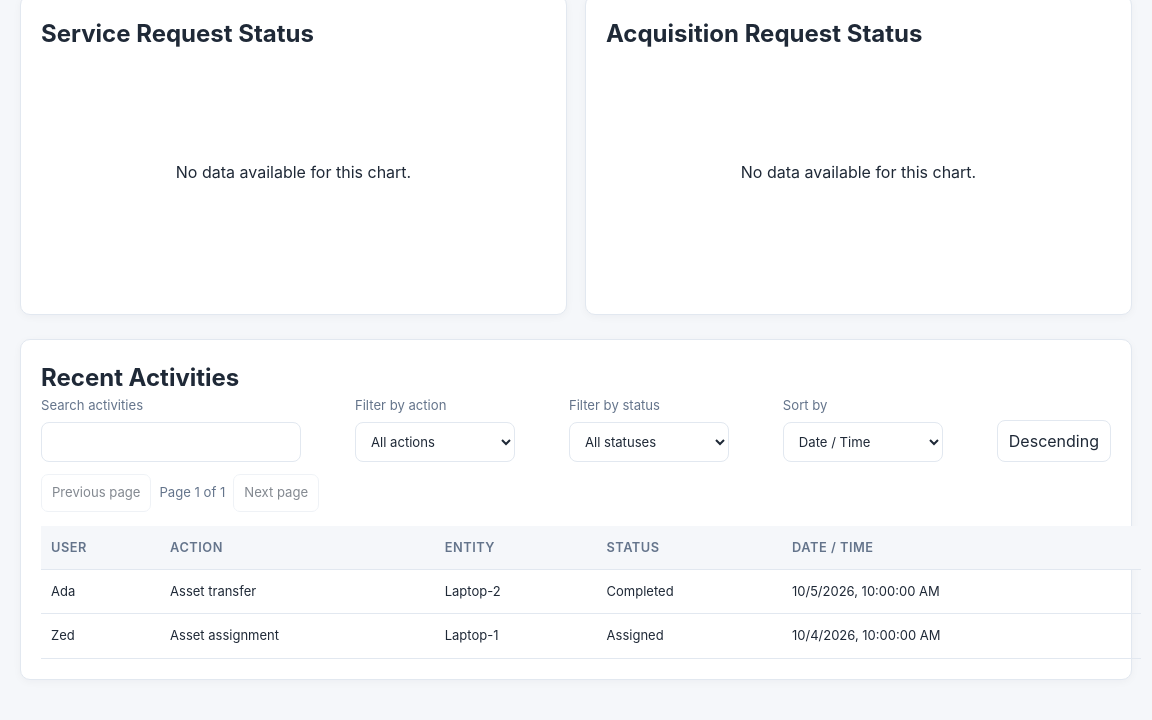
Test case: filters recent activities and sorts the filtered results
(page scrolled)
Expected: the text "Ada" is shown, 41,569 -> 160,614
Select "User" in the dropdown labelled "Sort by" at (863, 442), box 783,422 -> 943,462
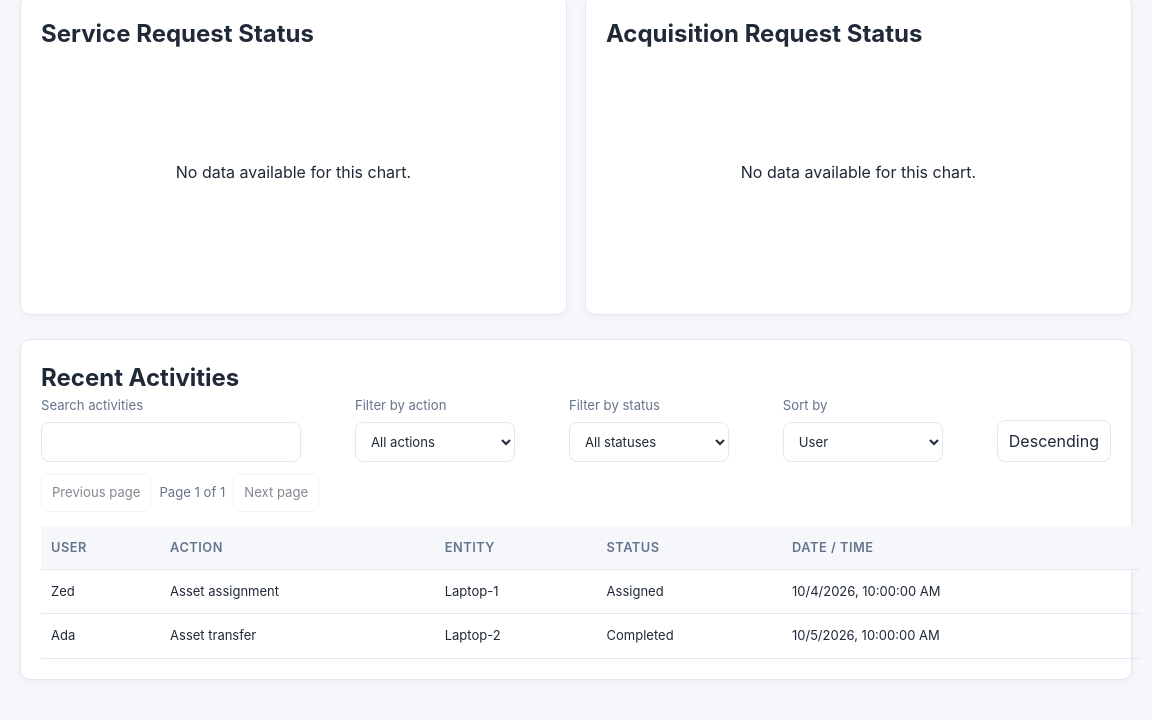
Expected: the row that starts with "Zed" is shown, 51,583 -> 75,599
Click the button with aria-label "Ascending" at (1054, 441), box 997,420 -> 1111,462
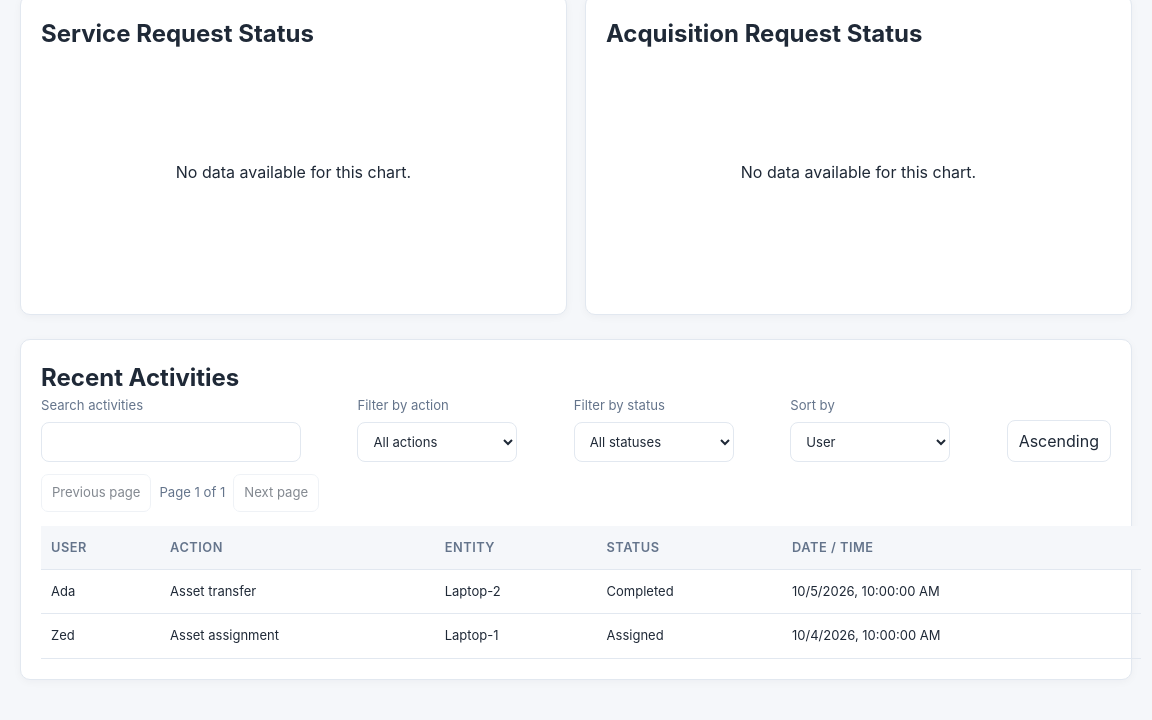
Expected: the row "Ada Asset transfer Laptop-2 Completed 10/5/2026, 10:00:00 AM" is shown, 41,569 -> 1141,614
Select "Asset assignment" in the dropdown labelled "Filter by action" at (437, 442), box 357,422 -> 517,462
(page scrolled)
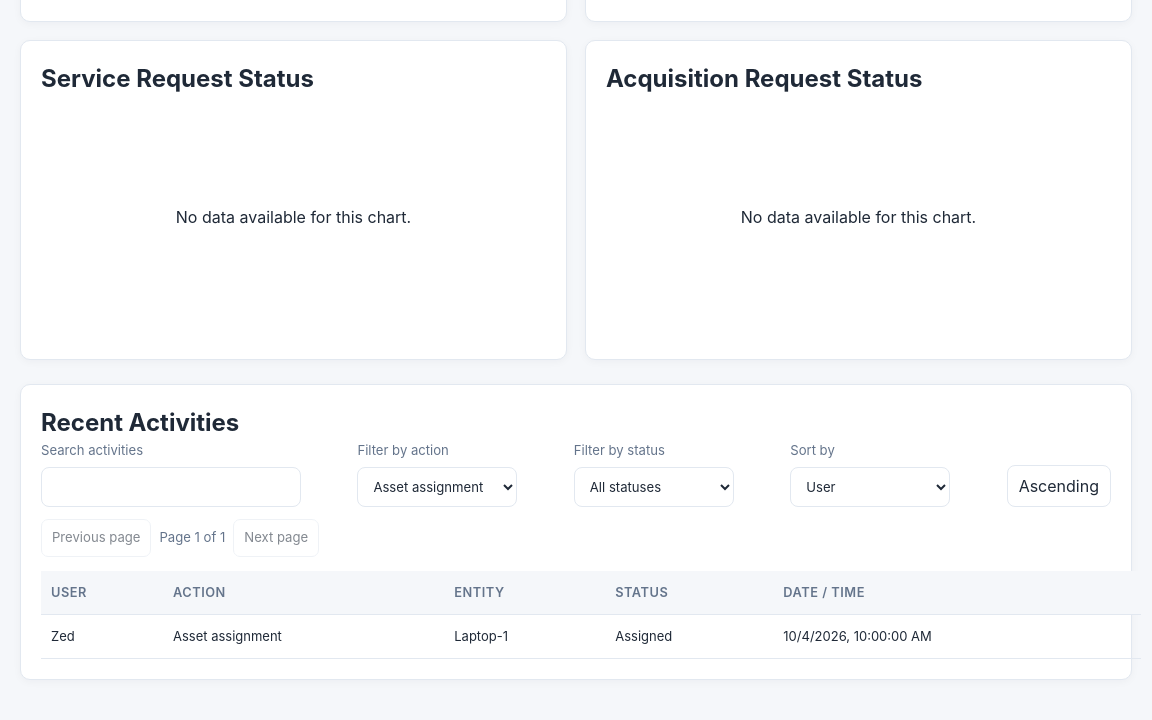
Expected: the row that starts with "Zed" shows "Laptop-1", 454,628 -> 508,644
Result: the number of rows is 2 at 41,571 -> 1141,614; 41,614 -> 1141,659
Result: the text "Laptop-2" is gone
Select "All actions" in the dropdown labelled "Filter by action" at (437, 487), box 357,467 -> 517,507
(page scrolled)
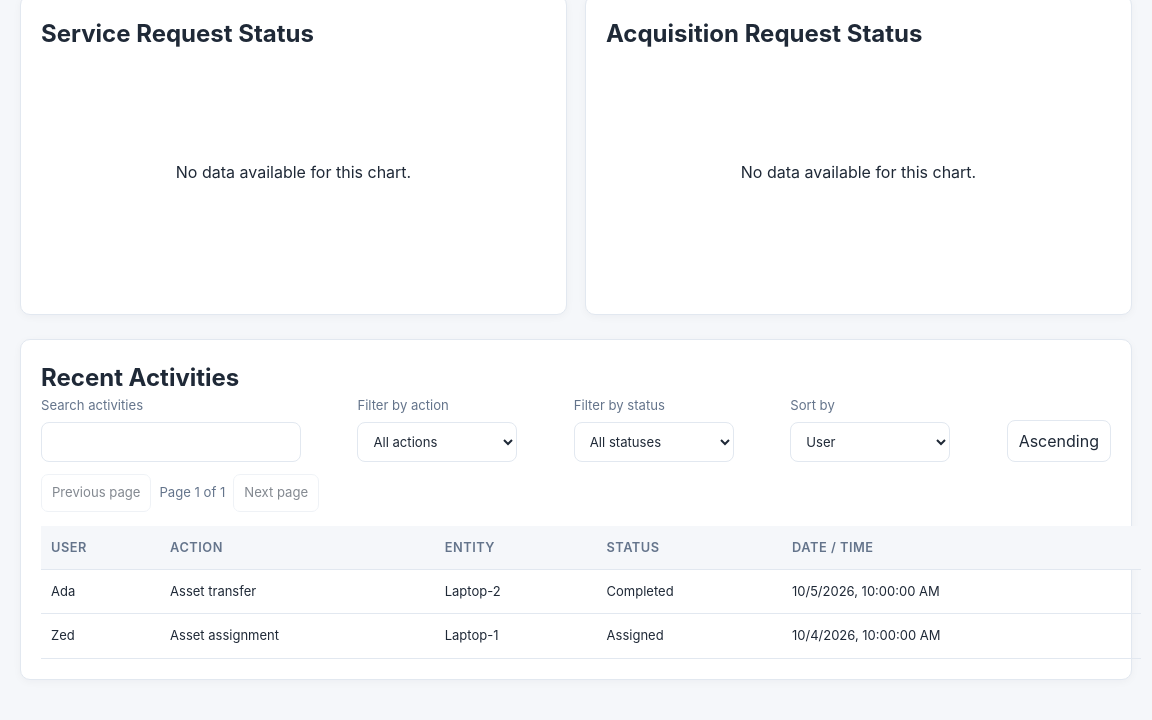
Select "Completed" in the dropdown labelled "Filter by status" at (654, 442), box 574,422 -> 734,462
(page scrolled)
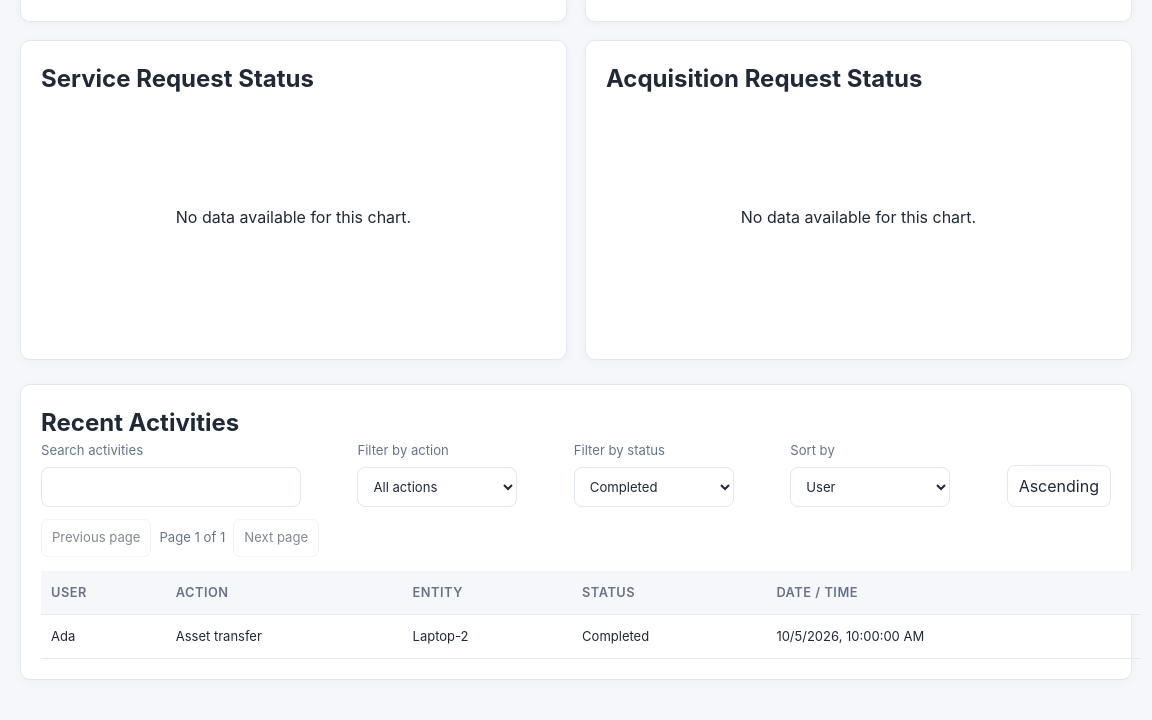
Result: the row "Ada Asset transfer Laptop-2 Completed 10/5/2026, 10:00:00 AM" is shown at 41,614 -> 1141,659
Result: the number of rows is 2 at 41,571 -> 1141,614; 41,614 -> 1141,659
